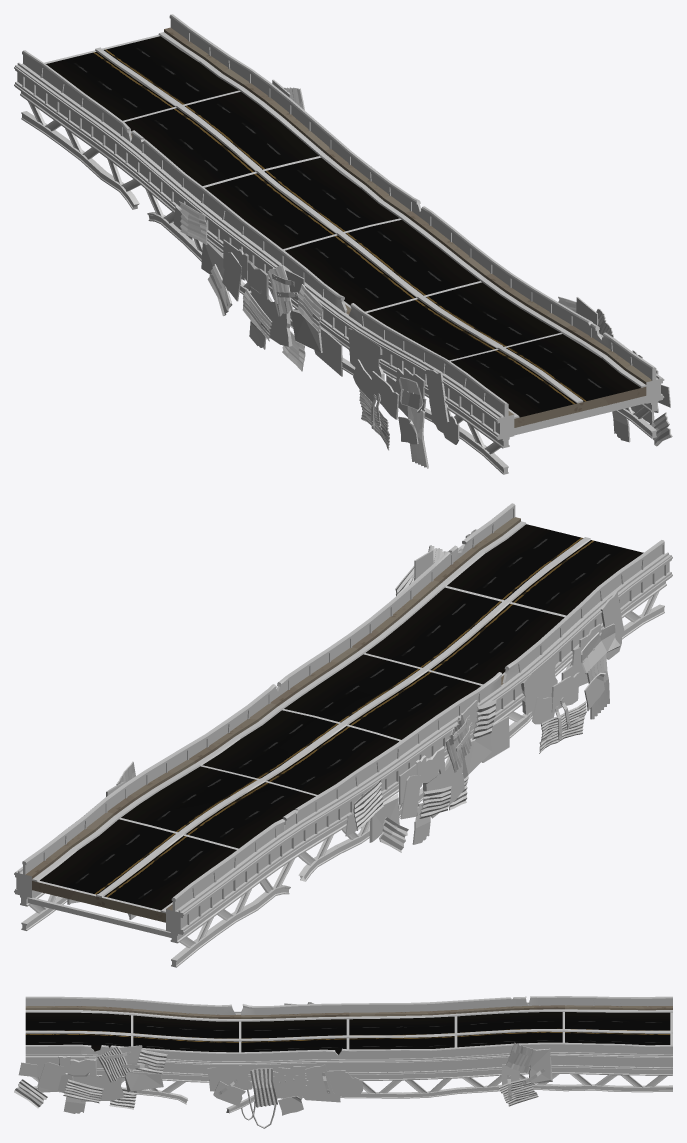
Rendered from SM_Bld_Bridge_01.fbx.
3 views of the same model, one above another, from view 1: azimuth 30°, elevation 25°; view 2: azimuth 150°, elevation 25°; view 3: azimuth 270°, elevation 25° (orthographic). The views are drawn at different scales.
Parts seen in each view (by area): view 1: SM_Bld_Bridge_01; view 2: SM_Bld_Bridge_01; view 3: SM_Bld_Bridge_01.
Boxes of the visible parts, x1,y1,x2,y2 form: SM_Bld_Bridge_01: (14,14,672,474); SM_Bld_Bridge_01: (14,503,672,967); SM_Bld_Bridge_01: (14,996,672,1128).
Size of the model in its own units: 2308 by 1529 by 10377.
